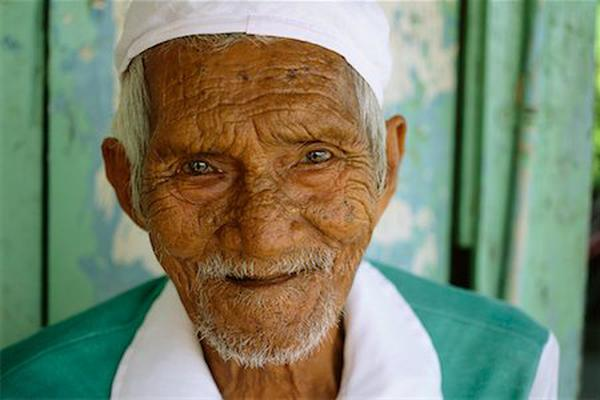Malay: (134, 54, 380, 363)
